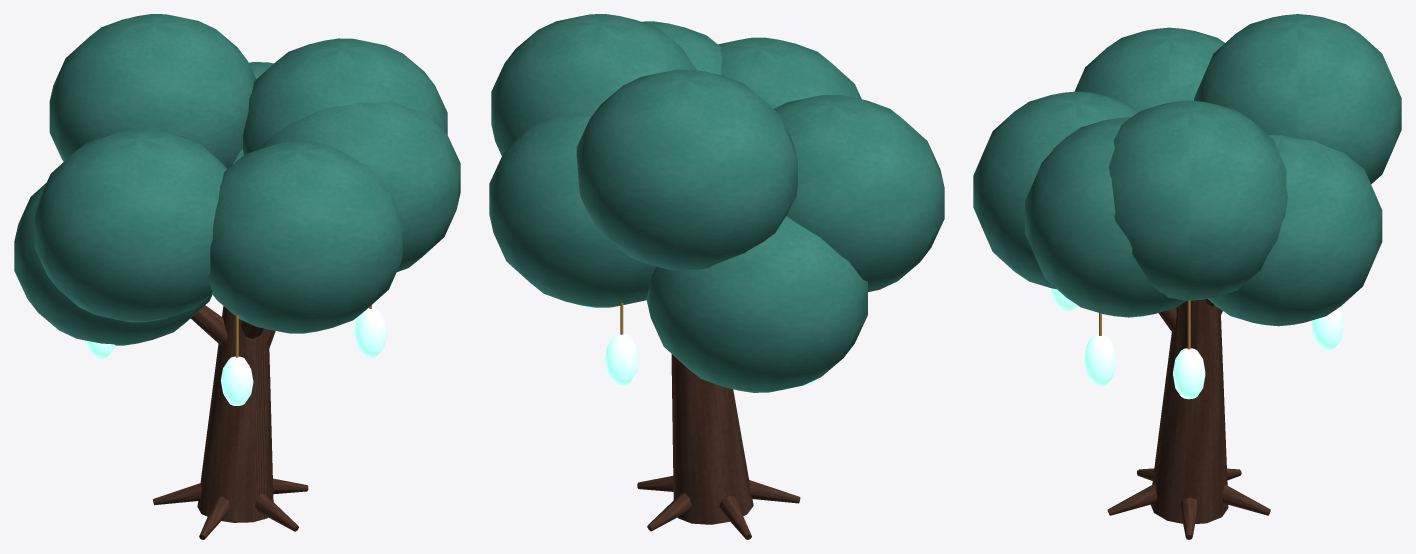
File: glow_tree.glb
3 views of the same model, side by side, from view 1: azimuth 30°, elevation 25°; view 2: azimuth 150°, elevation 25°; view 3: azimuth 270°, elevation 25° (orthographic). The views are drawn at different scales.
Parts seen in each view (by area): view 1: glow_tree; view 2: glow_tree; view 3: glow_tree.
Boxes of the visible parts, bbox=[...] form: glow_tree: bbox=[14, 14, 460, 539]; glow_tree: bbox=[489, 14, 944, 539]; glow_tree: bbox=[973, 14, 1401, 539].
Size of the model in its own units: 3.36 by 3.68 by 3.05.
4 materials, 4 textured.
